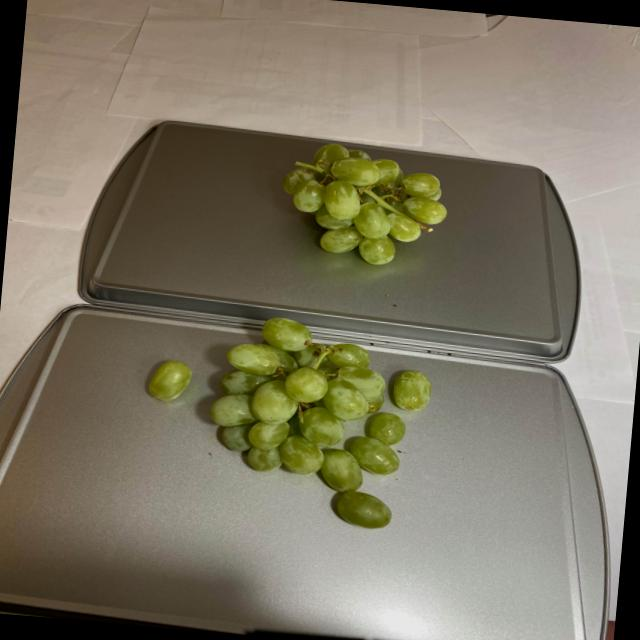grapes: (140, 309, 430, 535), (275, 140, 453, 270)
